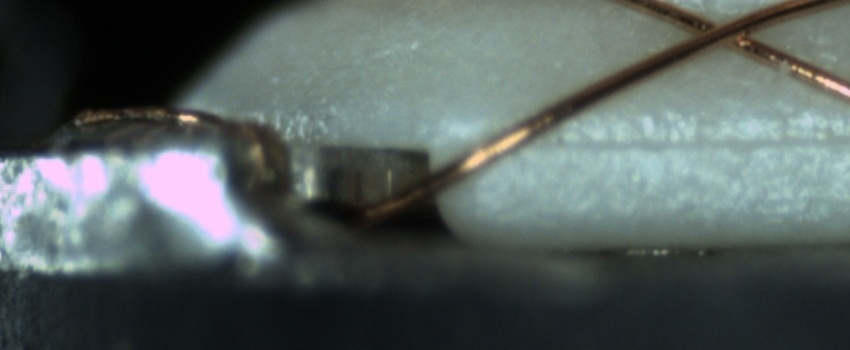CL: (679, 3, 777, 56)
DL: (529, 107, 849, 177)
TE: (62, 103, 295, 192)
